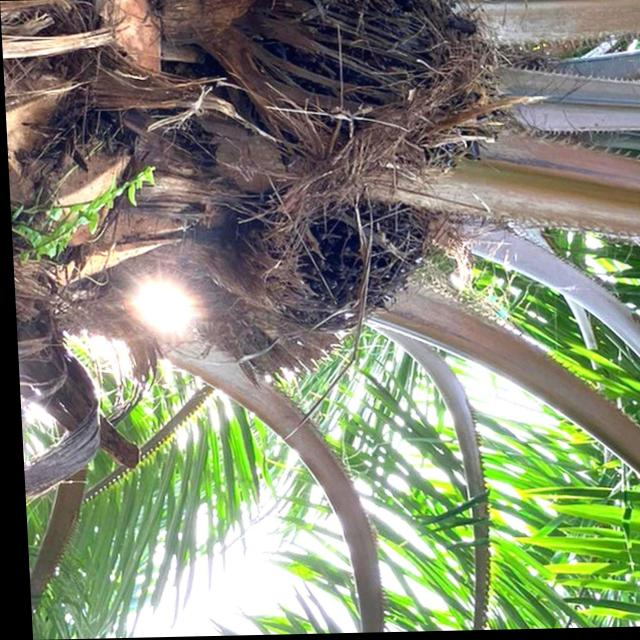unripe: (268, 202, 431, 329)
